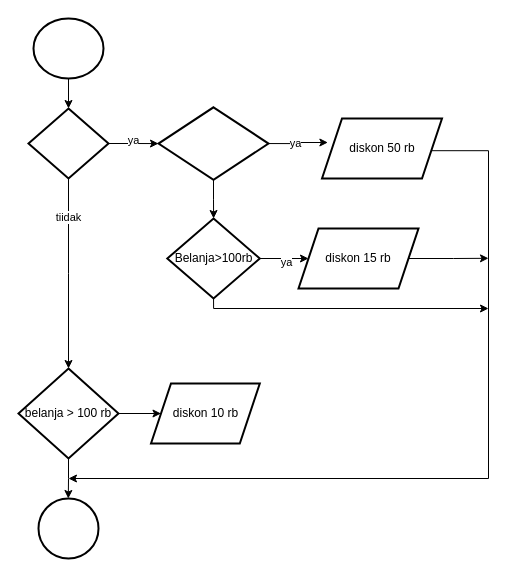
Some shapes in this 514 by 576 pixel diagram are drawn without their labels. The shapes that lost their labels are listed below. From the top down, each one's centre as x and y in pixels, then its label:
At (68,143): "Member?".
At (213,143): "Belanja>500rb".
